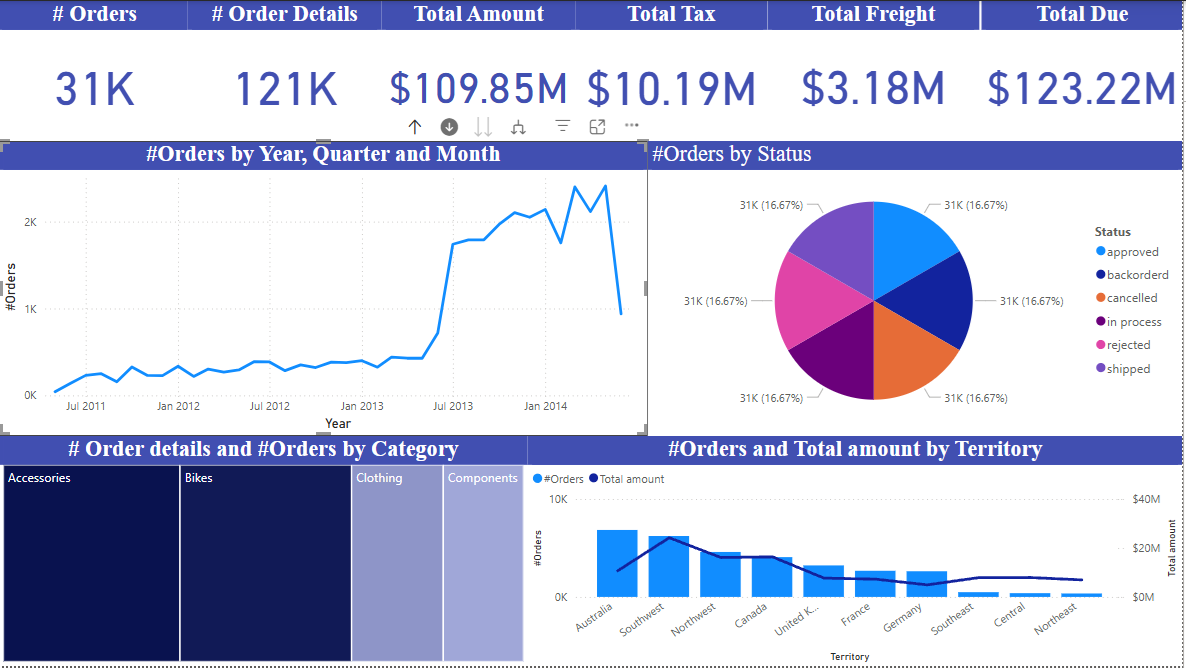

Layout of this report page (visuals, bound fields, positions):
{"tool":"powerbi","page":{"name":"Page 1","canvas":[1280,720],"ordinal":0},"visuals":[{"type":"card","title":"# Orders","fields":{"Values":["DAX Measures.#Orders"]},"box":[-1.4,0,210,150.1],"z":0},{"type":"card","title":"# Order Details","fields":{"Values":["DAX Measures.# Order details"]},"box":[204.1,0,210,150.1],"z":1000},{"type":"card","title":"Total Amount","fields":{"Values":["DAX Measures.Total amount"]},"box":[413.6,0,210,151.4],"z":2000},{"type":"card","title":"Total Tax","fields":{"Values":["DAX Measures.TotalTax"]},"box":[623.2,0,208,151.4],"z":3000},{"type":"card","title":"Total Freight","fields":{"Values":["DAX Measures.Total Freight"]},"box":[831.4,0,228.5,148.7],"z":4000},{"type":"card","title":"Total Due","fields":{"Values":["DAX Measures.TotalDue"]},"box":[1062.6,0,218,150.1],"z":5000},{"type":"lineChart","fields":{"Y":["DAX Measures.#Orders"],"Category":["Orders.OrderDate.Variation.Date Hierarchy.Year","Orders.OrderDate.Variation.Date Hierarchy.Quarter","Orders.OrderDate.Variation.Date Hierarchy.Month","Orders.OrderDate.Variation.Date Hierarchy.Day"]},"box":[0,151.4,701.6,319.1],"z":6000},{"type":"treemap","fields":{"Values":["DAX Measures.# Order details"],"Group":["ProductCategory.Category"]},"box":[0,471,572,249],"z":7000},{"type":"pieChart","fields":{"Y":["DAX Measures.#Orders"],"Category":["Statuses.Status"]},"box":[701.6,151.4,578.6,319.1],"z":8000},{"type":"lineStackedColumnComboChart","fields":{"Category":["SalesTerritory.Territory"],"Y":["DAX Measures.#Orders"],"Y2":["DAX Measures.Total amount"]},"box":[571.9,470.5,708.4,250.1],"z":9000}]}

Visuals, with their boxes in screenshot pixels (x1, y1, x2, y2):
"# Orders" card: (left=0, top=3, right=191, bottom=140)
"# Order Details" card: (left=186, top=3, right=378, bottom=140)
"Total Amount" card: (left=378, top=3, right=570, bottom=141)
"Total Tax" card: (left=569, top=3, right=760, bottom=141)
"Total Freight" card: (left=760, top=3, right=968, bottom=139)
"Total Due" card: (left=971, top=3, right=1170, bottom=140)
lineChart - DAX Measures.#Orders x Orders.OrderDate.Variation.Date Hierarchy.Year: (left=0, top=141, right=641, bottom=433)
treemap - DAX Measures.# Order details x ProductCategory.Category: (left=0, top=433, right=523, bottom=661)
pieChart - DAX Measures.#Orders x Statuses.Status: (left=641, top=141, right=1170, bottom=433)
lineStackedColumnComboChart - SalesTerritory.Territory x DAX Measures.#Orders: (left=523, top=433, right=1170, bottom=662)
